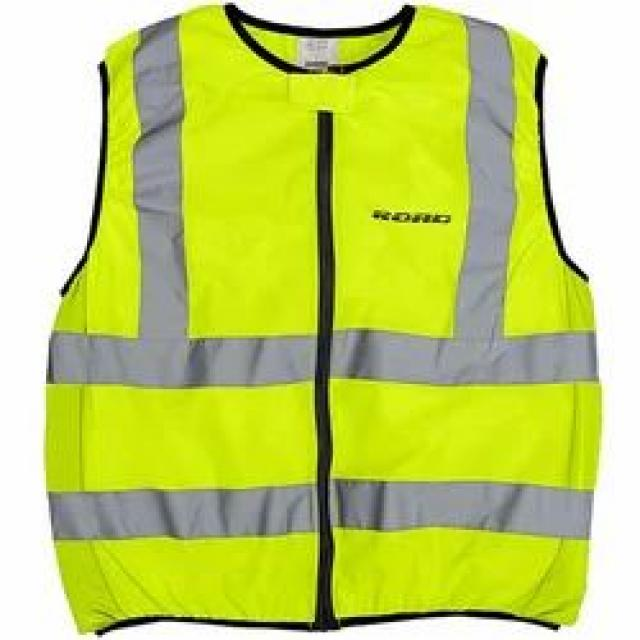Reflective-Jacket: (10, 2, 640, 640)
